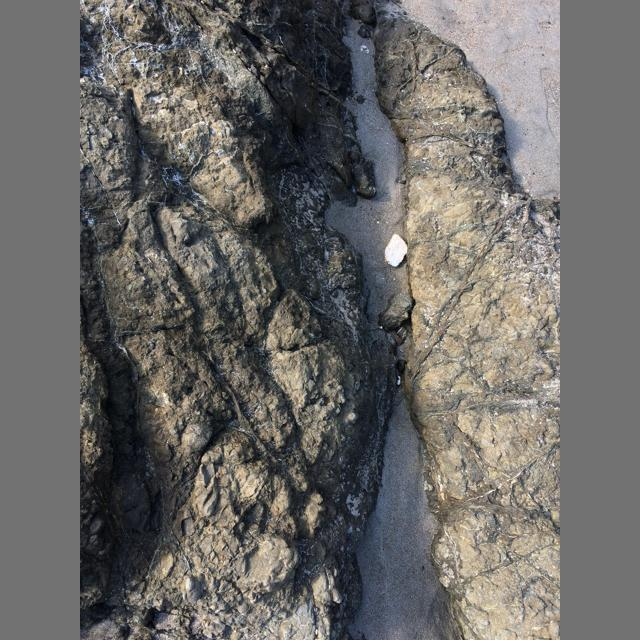litter: (385, 234, 407, 267)
